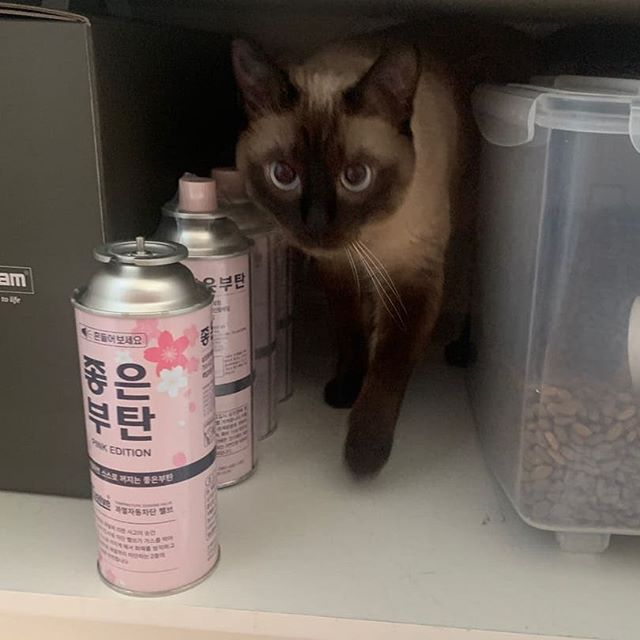cat: (219, 30, 428, 252)
